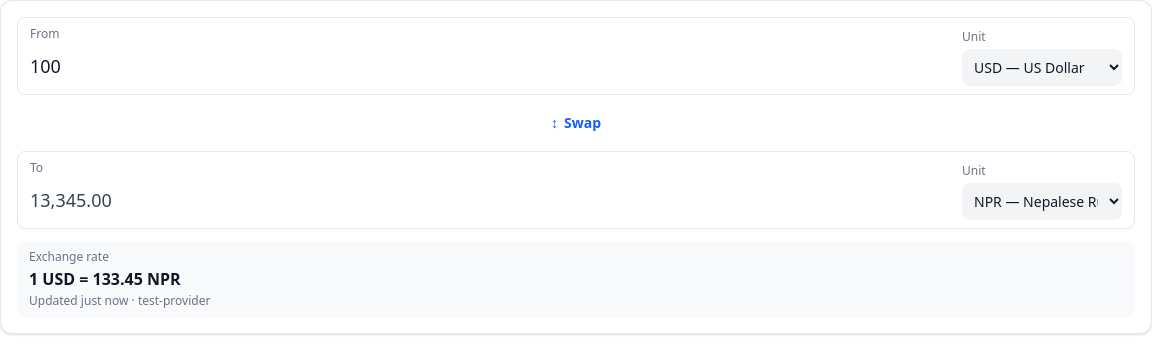
it: Converter (currency path) › swaps units and carries the result into the input
Expected: the field labelled "To" holds "13,345.00", [30,180,950,220]
Click the button with aria-label "swap units". click: (576, 123)
box: [539,107,613,139]
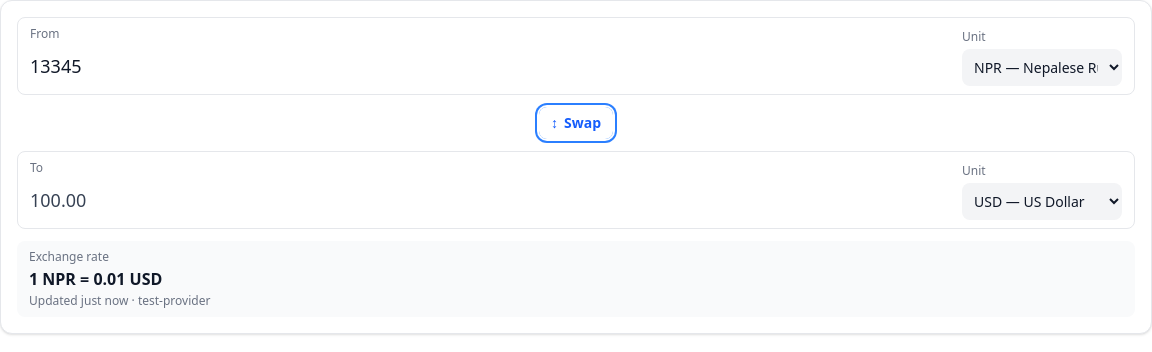
Expected: the field labelled "From" holds "13345", [30,46,950,86]
